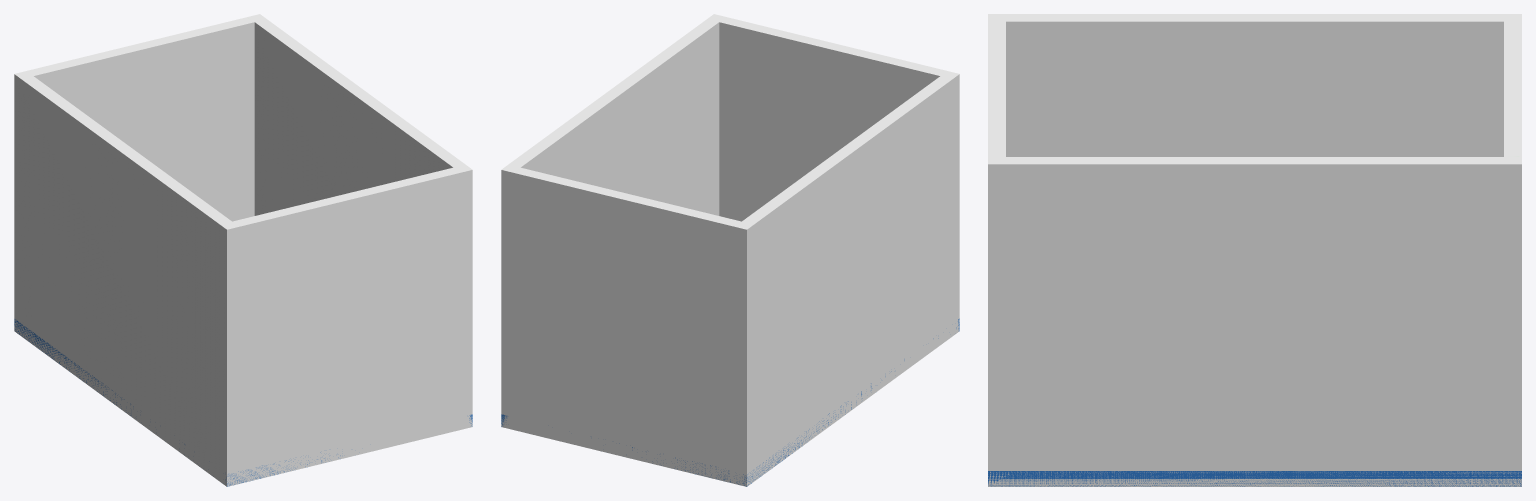
The model's file is Torokko_Base.FBX.
The picture shows the model from 3 angles, left to right: view 1: azimuth 30°, elevation 25°; view 2: azimuth 150°, elevation 25°; view 3: azimuth 270°, elevation 25°; orthographic projection. The views are drawn at different scales.
Visible parts, largest first — view 1: Box001, Box002; view 2: Box001; view 3: Box001, Box002.
Part boxes in pixels (<box>): Box001: <box>14,14,472,486</box>; Box002: <box>14,319,472,486</box>; Box001: <box>501,14,959,486</box>; Box001: <box>988,14,1521,486</box>; Box002: <box>988,471,1521,486</box>.
Size of the model in its own units: 40 by 40 by 60.
